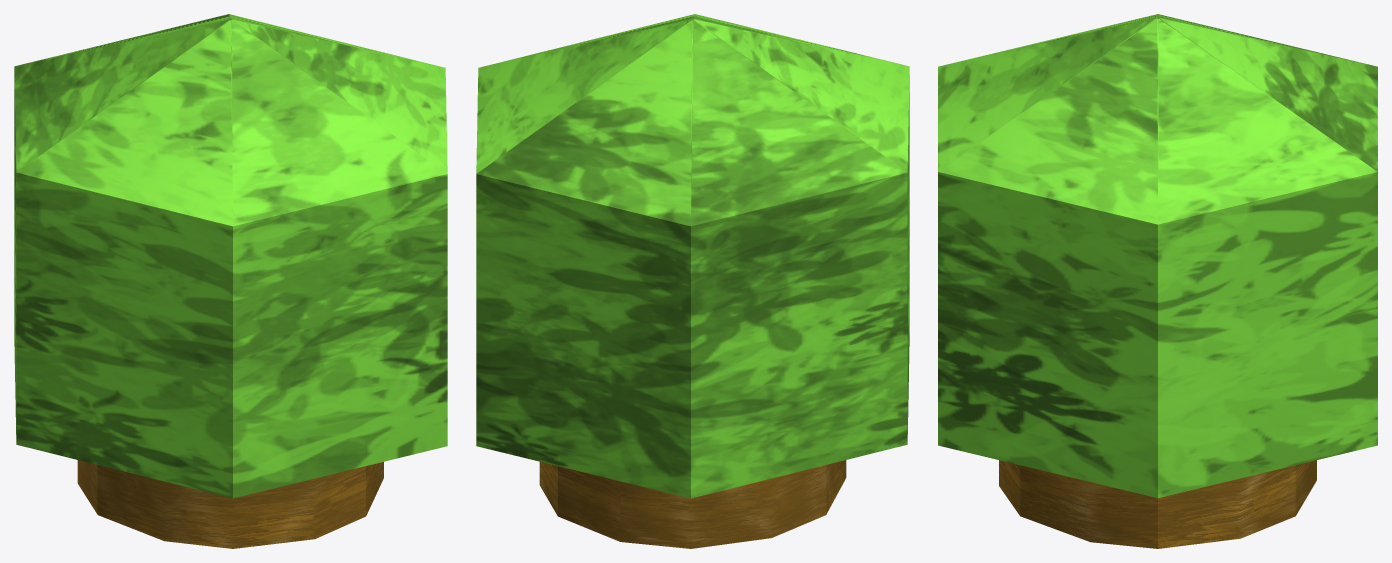
The model's file is bush.fbx.
3 renders of one model, left to right at view 1: azimuth 30°, elevation 25°; view 2: azimuth 150°, elevation 25°; view 3: azimuth 270°, elevation 25°, orthographic.
Parts seen in each view (by area): view 1: pCylinder4; view 2: pCylinder4; view 3: pCylinder4.
Boxes of the visible parts, box(x1,y1,x2,y2) form: pCylinder4: box(14, 14, 447, 548); pCylinder4: box(476, 14, 909, 548); pCylinder4: box(938, 14, 1377, 548).
Size of the model in its own units: 2.61 by 2.69 by 2.31.
Materials: 1 (1 with a texture image).
